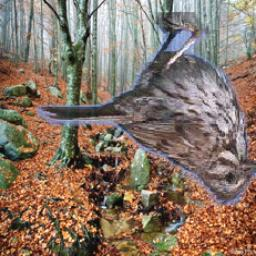Sparrow: (37, 12, 256, 208)
